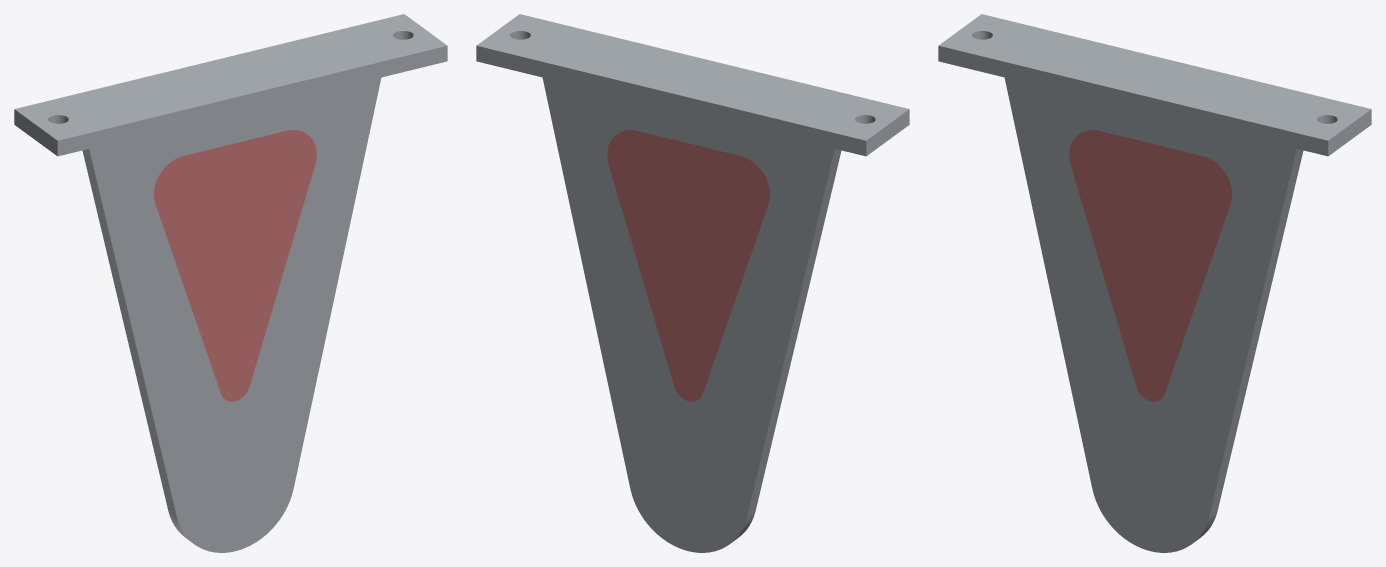
Rendered from step_04.glb.
3 renders of one model, left to right at view 1: azimuth 30°, elevation 25°; view 2: azimuth 150°, elevation 25°; view 3: azimuth 330°, elevation 25°, orthographic.
Parts seen in each view (by area): view 1: part__Worksheet 13 hanger bracket, removed__Worksheet 13 hanger bracket; view 2: part__Worksheet 13 hanger bracket, removed__Worksheet 13 hanger bracket; view 3: part__Worksheet 13 hanger bracket, removed__Worksheet 13 hanger bracket.
Part boxes in pixels (<box>): part__Worksheet 13 hanger bracket: <box>14,14,447,552</box>; removed__Worksheet 13 hanger bracket: <box>154,130,316,401</box>; part__Worksheet 13 hanger bracket: <box>476,14,909,552</box>; removed__Worksheet 13 hanger bracket: <box>607,130,769,401</box>; part__Worksheet 13 hanger bracket: <box>938,14,1371,552</box>; removed__Worksheet 13 hanger bracket: <box>1069,130,1231,401</box>.
Bounding box in the file's own units: 130 × 150 × 25.
